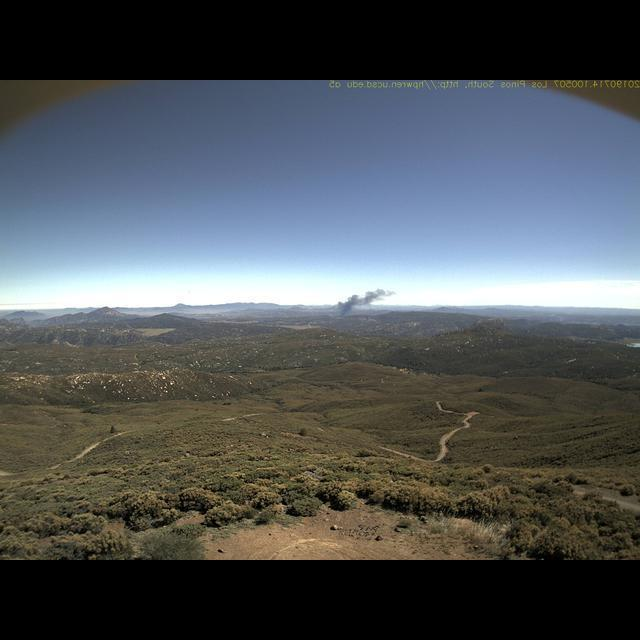Smoke: (330, 284, 399, 324)
